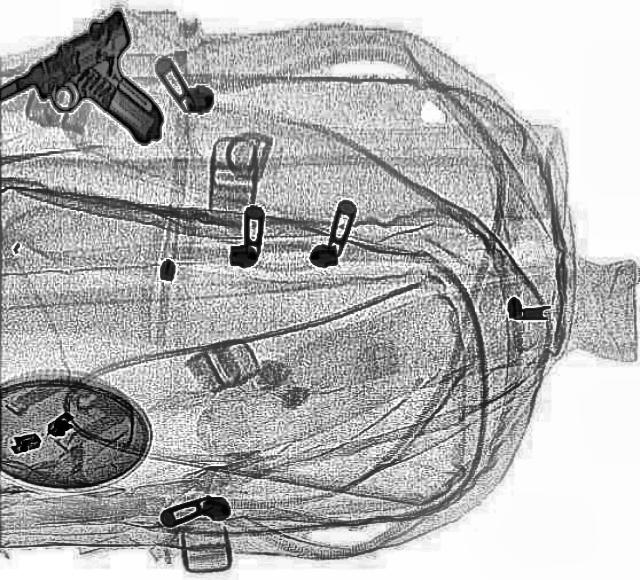Gun: (0, 5, 198, 170)
